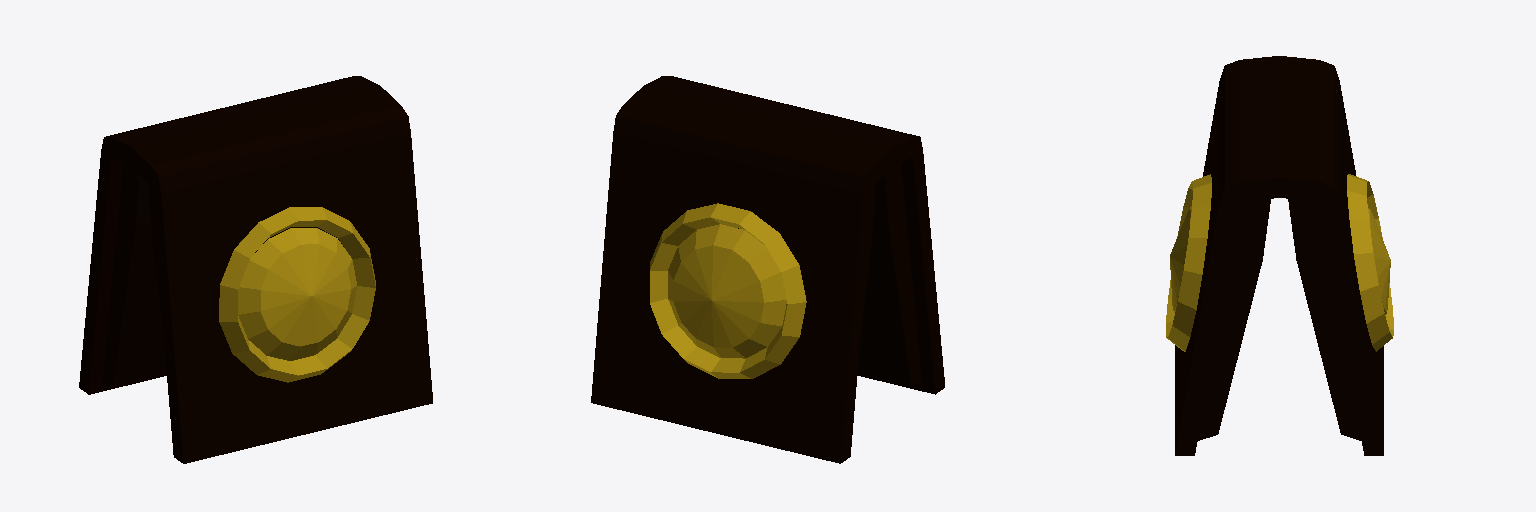
File: book.obj
3 renders of one model, left to right at view 1: azimuth 30°, elevation 25°; view 2: azimuth 150°, elevation 25°; view 3: azimuth 270°, elevation 25°, orthographic.
Parts seen in each view (by area): view 1: Box001, Torus001; view 2: Box001, Torus001; view 3: Box001, Torus001.
Part boxes in pixels (x1,y1,x2,y2): Box001: (79, 76, 432, 463); Torus001: (219, 207, 375, 382); Box001: (591, 76, 944, 463); Torus001: (650, 203, 806, 378); Box001: (1175, 56, 1383, 455); Torus001: (1166, 174, 1393, 351).
Bounding box in the file's own units: 90 × 95.93 × 71.34.